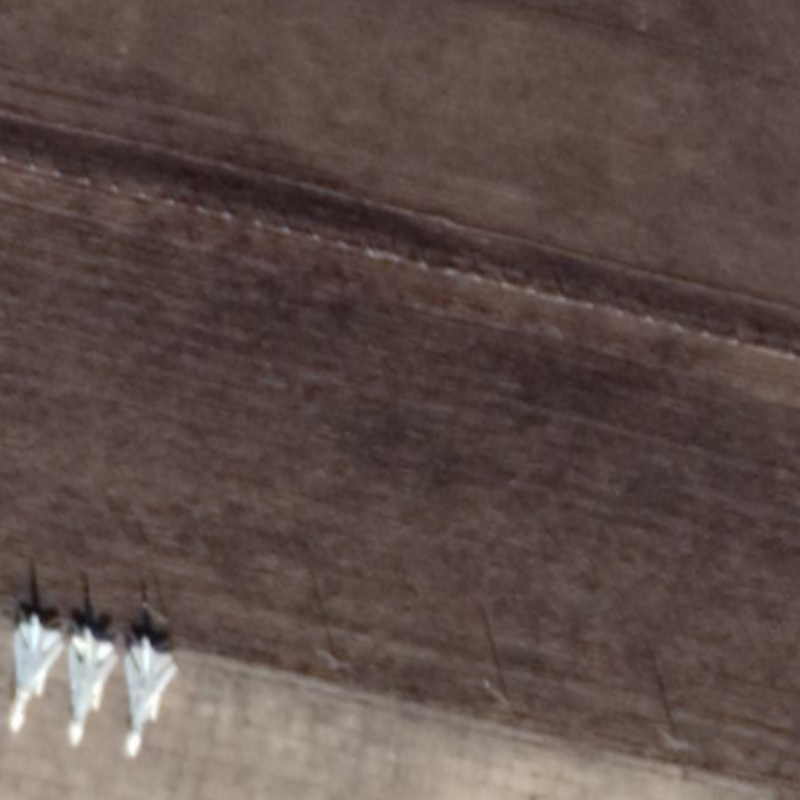A20: (120, 634, 180, 759), (5, 609, 64, 736), (64, 622, 117, 749)
